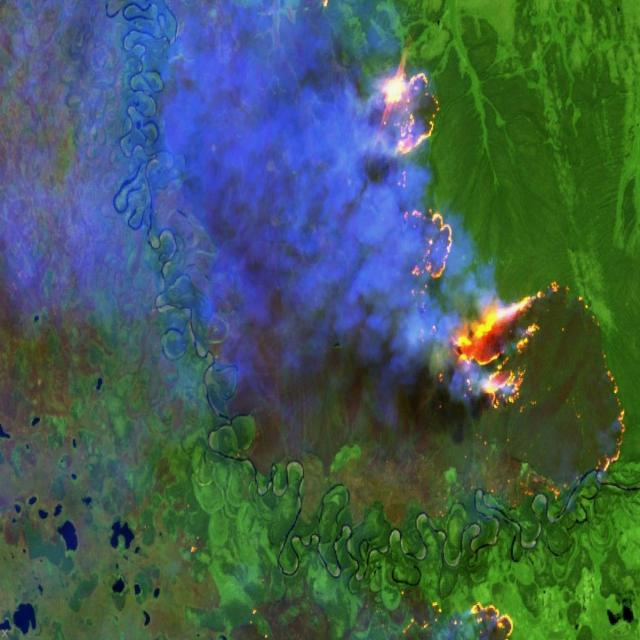fire: (369, 62, 628, 509), (399, 588, 518, 640)
